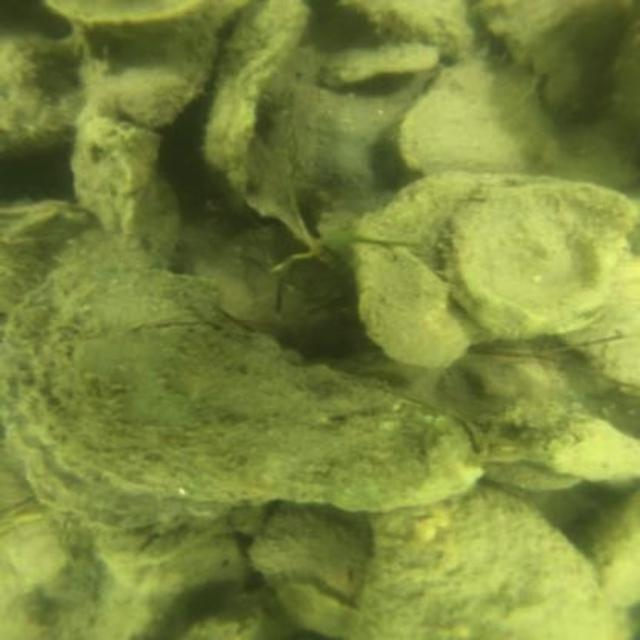Oyster-Closed: (18, 231, 497, 510), (353, 487, 636, 640), (447, 187, 640, 337), (67, 97, 179, 262), (399, 61, 563, 170), (476, 0, 626, 111), (357, 247, 472, 367), (89, 30, 224, 127), (255, 508, 371, 602), (352, 0, 499, 58)
